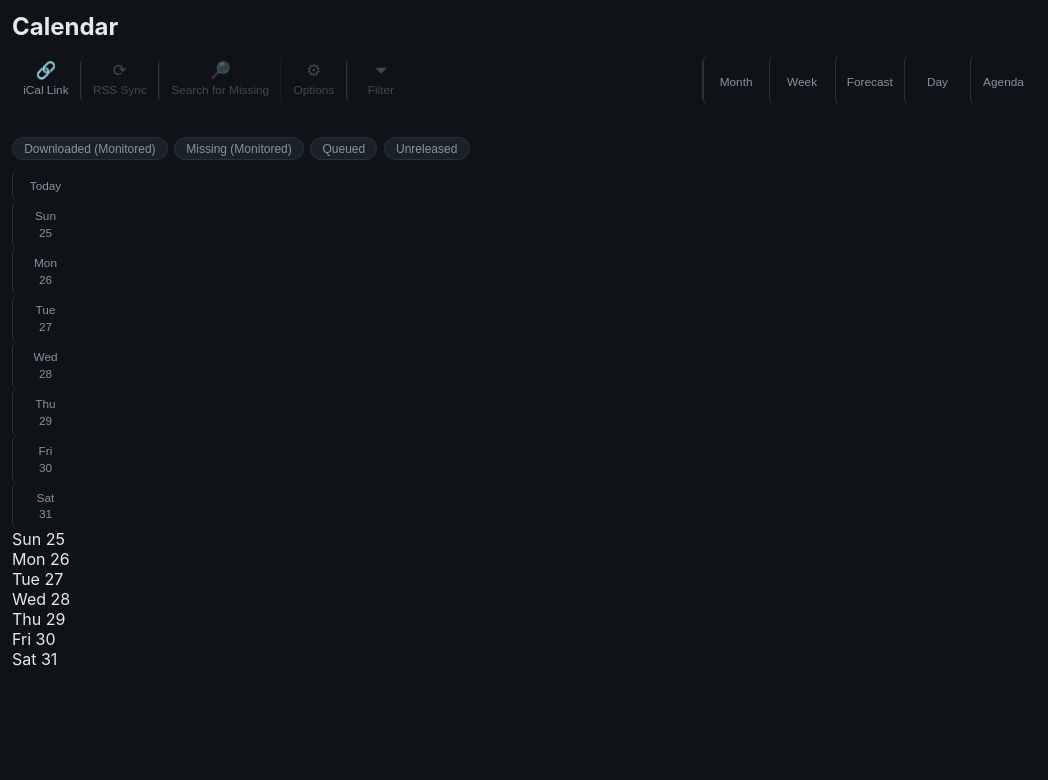
Test case: CalendarPage kind=movie (R4 movie calendar) › requests kind=movie and exposes the movie iCal feed URL
The image size is (1048, 780).
Expected: the element with test id "calendar-week" is shown, x1=12 y1=529 x2=70 y2=669
Click the button with test id "calendar-ical".
click(46, 80)  # box x1=12 y1=55 x2=80 y2=105
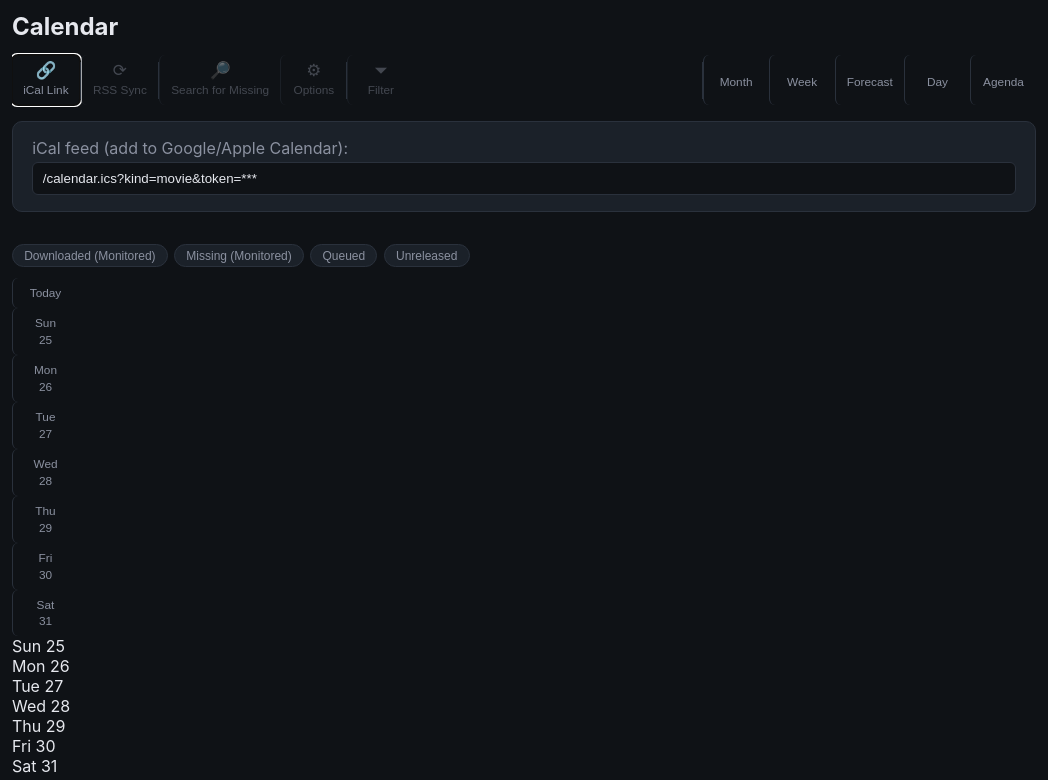
Expected: the element with test id "calendar-ical-bar" is shown, x1=12 y1=121 x2=1036 y2=212
Expected: the field with test id "calendar-ical-url" holds "/calendar.ics?kind=movie&token=***", x1=32 y1=162 x2=1016 y2=195
